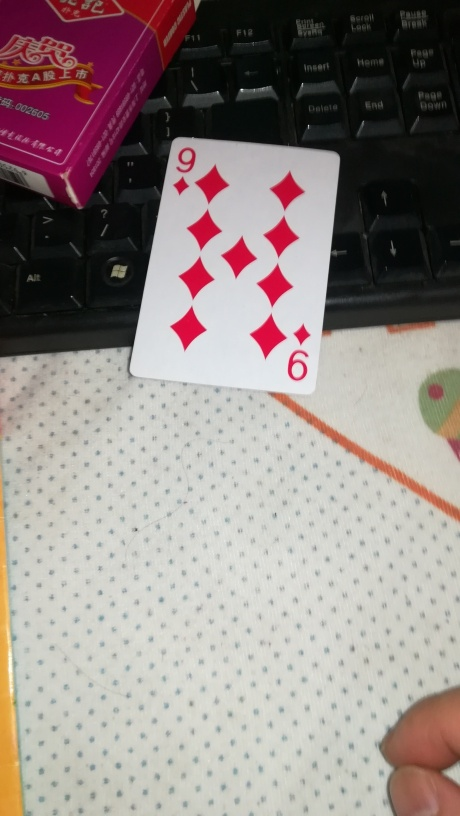fk 9: (128, 133, 340, 396)
